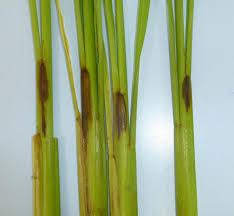Stem Rot: (168, 62, 197, 215), (26, 54, 58, 141), (112, 83, 133, 215), (105, 78, 139, 150), (79, 68, 99, 170), (35, 59, 55, 156), (173, 62, 203, 123), (79, 66, 100, 149)
